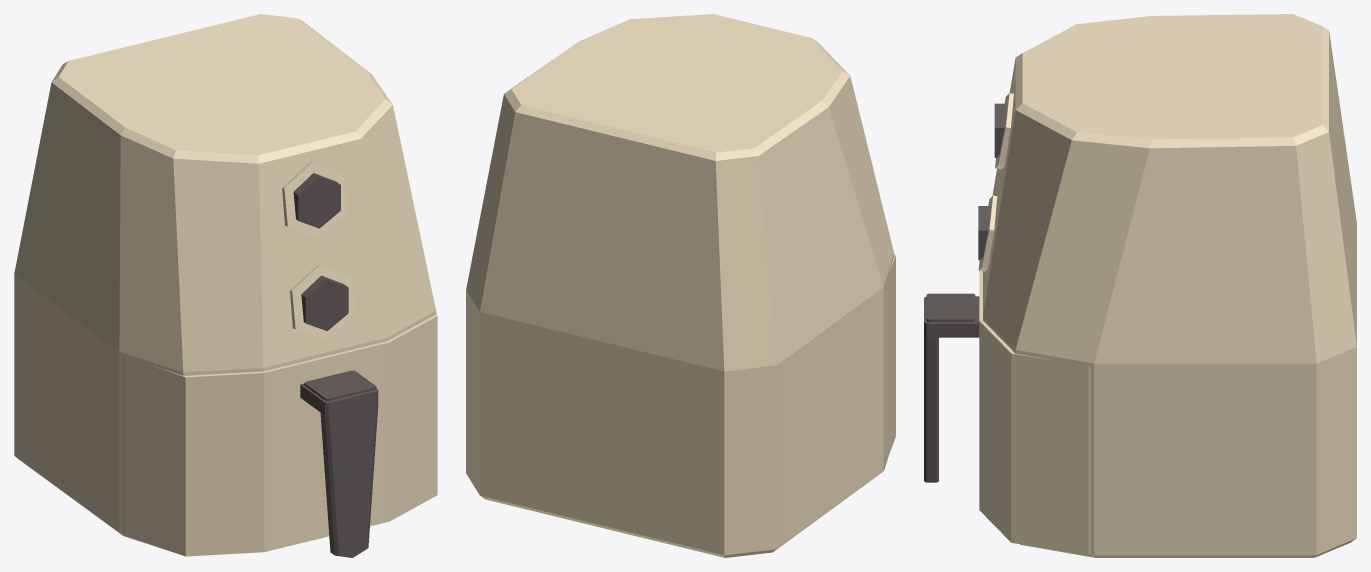
The model's file is AirFryer1.glb.
3 views of the same model, side by side, from view 1: azimuth 30°, elevation 25°; view 2: azimuth 150°, elevation 25°; view 3: azimuth 270°, elevation 25° (orthographic). The views are drawn at different scales.
Parts seen in each view (by area): view 1: Airfryer1, Basket1Airfryer1, TemperatureControl1Airfryer1, TimerControl1Airfryer1; view 2: Airfryer1, Basket1Airfryer1; view 3: Airfryer1, Basket1Airfryer1, TimerControl1Airfryer1, TemperatureControl1Airfryer1.
Part boxes in pixels (box(x1,y1,x2,y2)): Airfryer1: box(14, 14, 436, 551); Basket1Airfryer1: box(122, 312, 437, 557); TemperatureControl1Airfryer1: box(301, 275, 348, 331); TimerControl1Airfryer1: box(293, 173, 340, 228); Airfryer1: box(466, 14, 894, 557); Basket1Airfryer1: box(884, 254, 895, 466); Airfryer1: box(978, 14, 1356, 557); Basket1Airfryer1: box(924, 260, 1090, 554); TimerControl1Airfryer1: box(994, 103, 1007, 157); TemperatureControl1Airfryer1: box(978, 206, 990, 260).
Bounding box in the file's own units: 0.4988 × 0.5981 × 0.5777.
